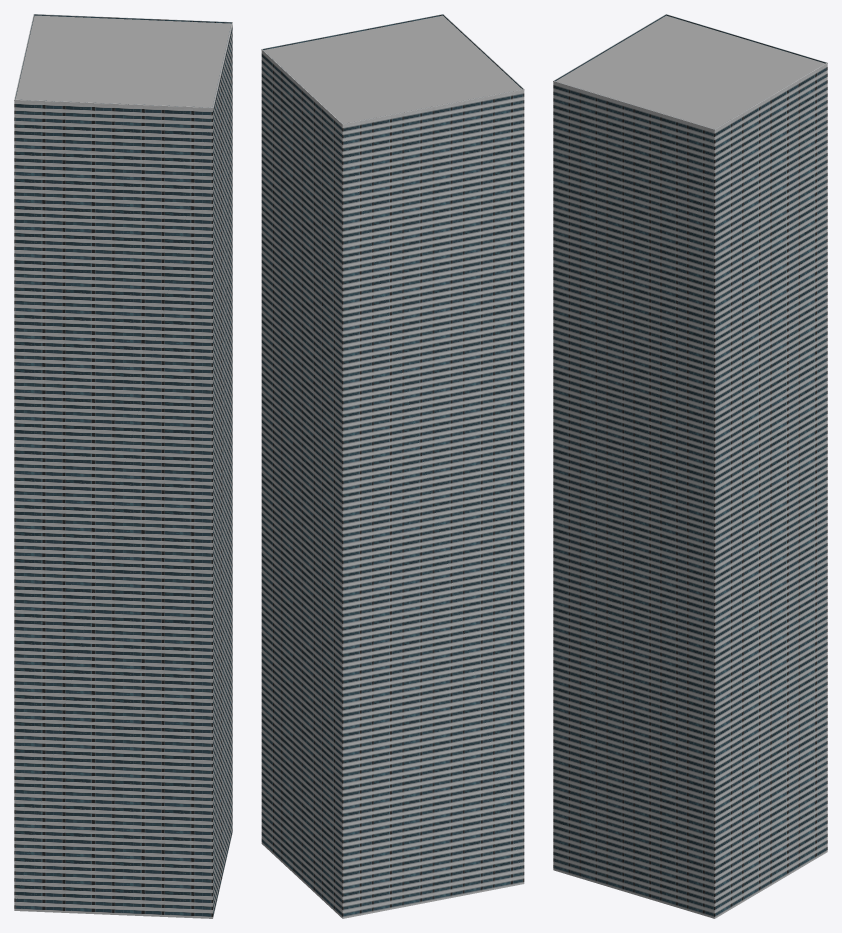
File: Building_118.fbx
3 views of the same model, side by side, from view 1: azimuth 30°, elevation 25°; view 2: azimuth 150°, elevation 25°; view 3: azimuth 270°, elevation 25° (orthographic). The views are drawn at different scales.
Parts seen in each view (by area): view 1: HighRise01Tiling_5, Roofpanels; view 2: HighRise01Tiling_5, Roofpanels; view 3: HighRise01Tiling_5, Roofpanels.
Boxes of the visible parts, x1,y1,x2,y2 form: HighRise01Tiling_5: (14, 14, 232, 918); Roofpanels: (15, 15, 231, 107); HighRise01Tiling_5: (261, 14, 524, 918); Roofpanels: (264, 15, 521, 123); HighRise01Tiling_5: (553, 14, 827, 918); Roofpanels: (556, 15, 824, 128).
Size of the model in its own units: 5858 by 18625 by 5878.
2 materials, 1 textured.
